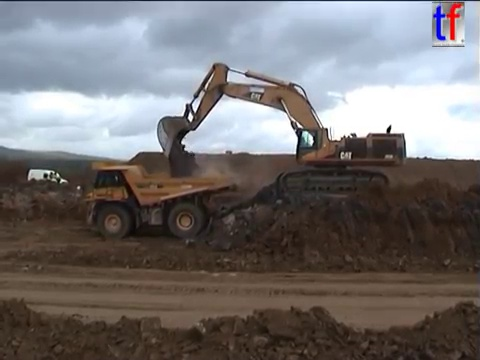excavator: (154, 60, 410, 205)
truck: (74, 158, 235, 240)
worker: (52, 169, 62, 189), (47, 168, 54, 186)
